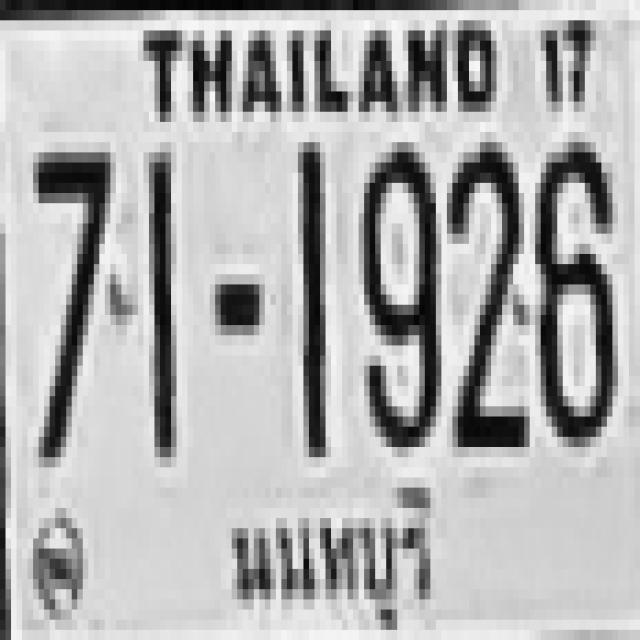1: (146, 147, 174, 452), (298, 142, 320, 447)
2: (447, 137, 524, 442)
6: (536, 132, 612, 437)
7: (31, 142, 108, 457)
9: (358, 142, 436, 447)
Nonthaburi: (225, 476, 437, 634)
